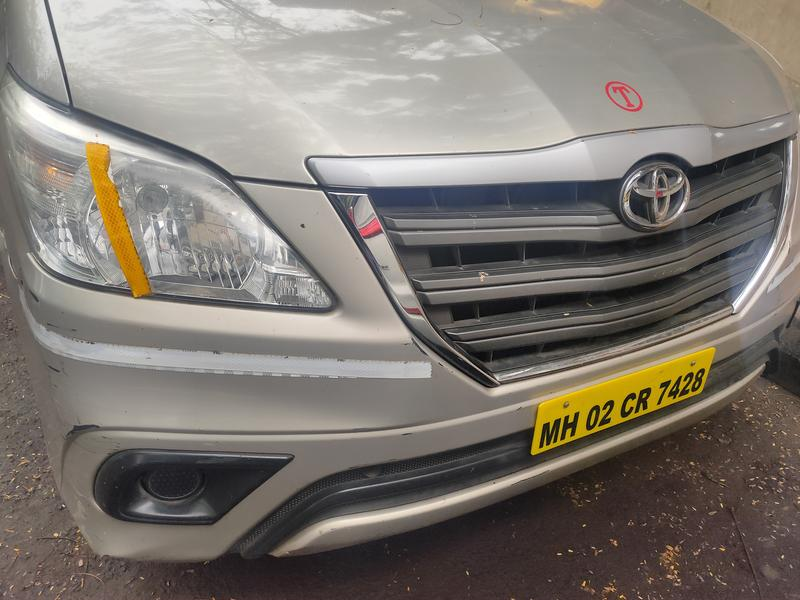license_plate: (504, 333, 731, 481)
